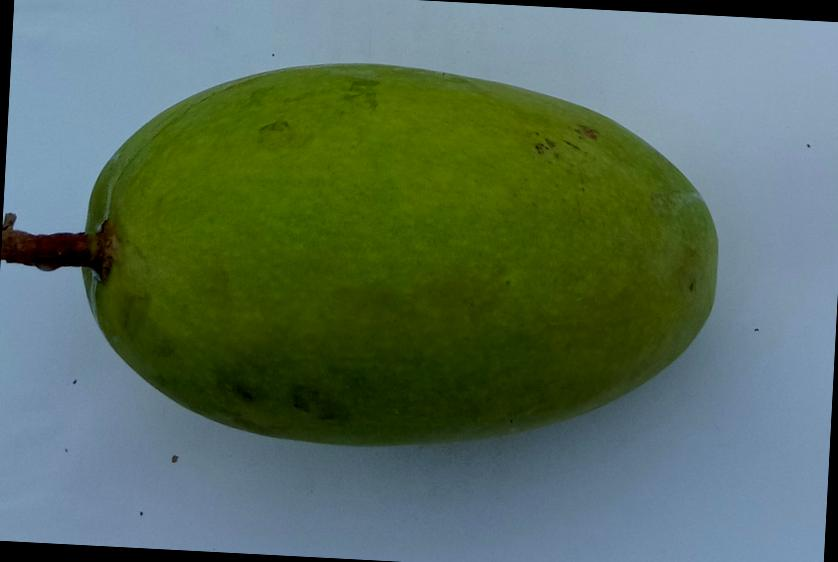Mango Unripe: (62, 24, 750, 494)
